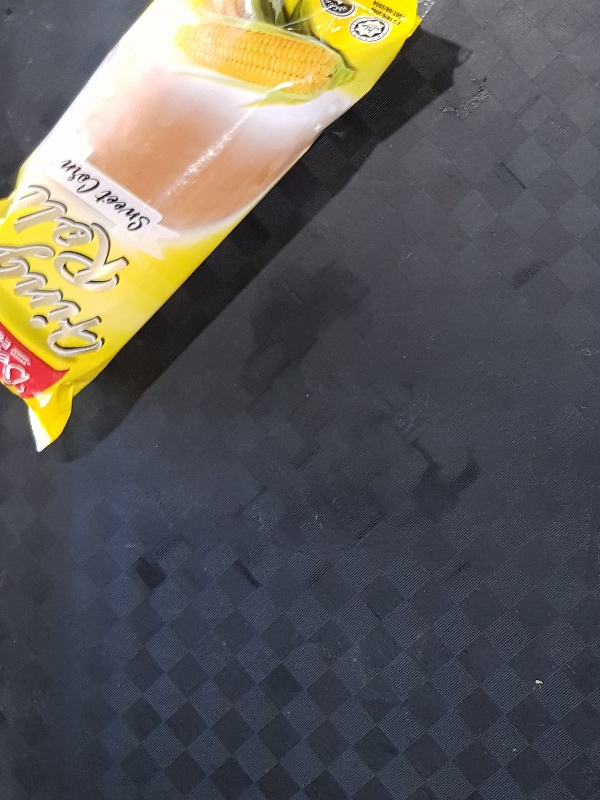Tinges Roll Sweet Corn: (1, 1, 436, 452)
